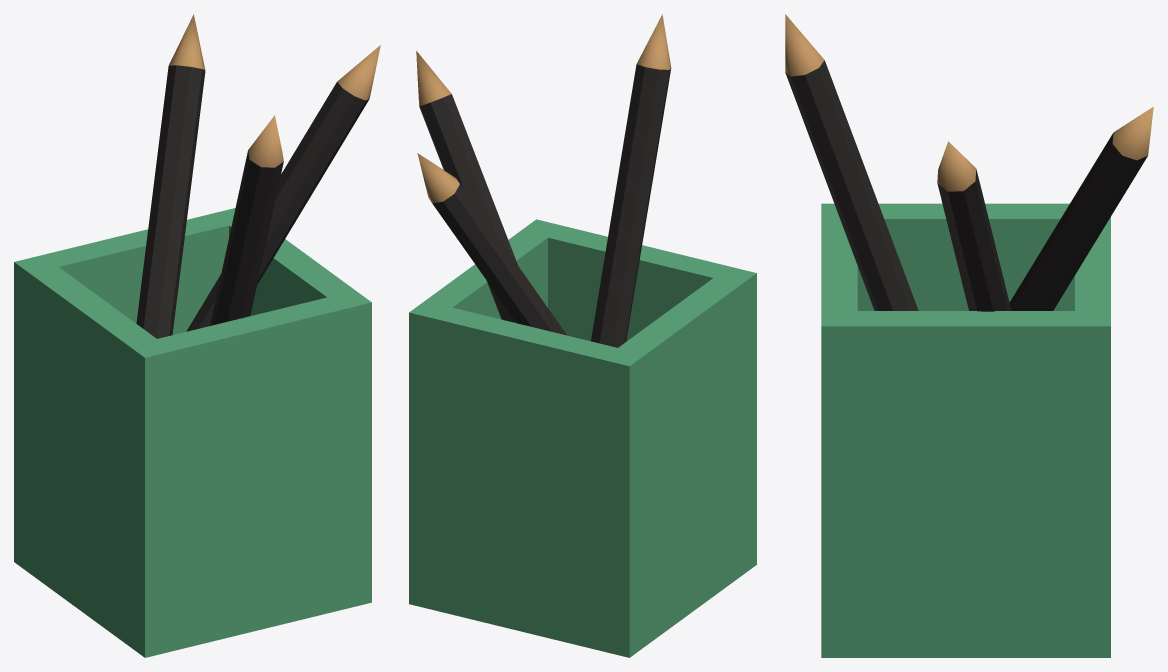
Rendered from pencil case.fbx.
The picture shows the model from 3 angles, left to right: view 1: azimuth 30°, elevation 25°; view 2: azimuth 150°, elevation 25°; view 3: azimuth 270°, elevation 25°; orthographic projection. The views are drawn at different scales.
Visible parts, largest first — view 1: pCube110, pCylinder19, pCylinder20, pCylinder18; view 2: pCube110, pCylinder18, pCylinder19, pCylinder20; view 3: pCube110, pCylinder18, pCylinder19, pCylinder20.
Part boxes in pixels (x1,y1,x2,y2): pCube110: (14,208,371,657); pCylinder19: (136,14,205,338); pCylinder20: (186,45,380,331); pCylinder18: (210,115,283,325); pCube110: (409,219,756,657); pCylinder18: (591,14,671,347); pCylinder19: (417,153,566,335); pCylinder20: (416,51,518,323); pCube110: (821,203,1110,657); pCylinder18: (785,14,918,310); pCylinder19: (1009,106,1153,310); pCylinder20: (937,141,1011,311).
Size of the model in its own units: 0.8367 by 1.44 by 0.8241.
